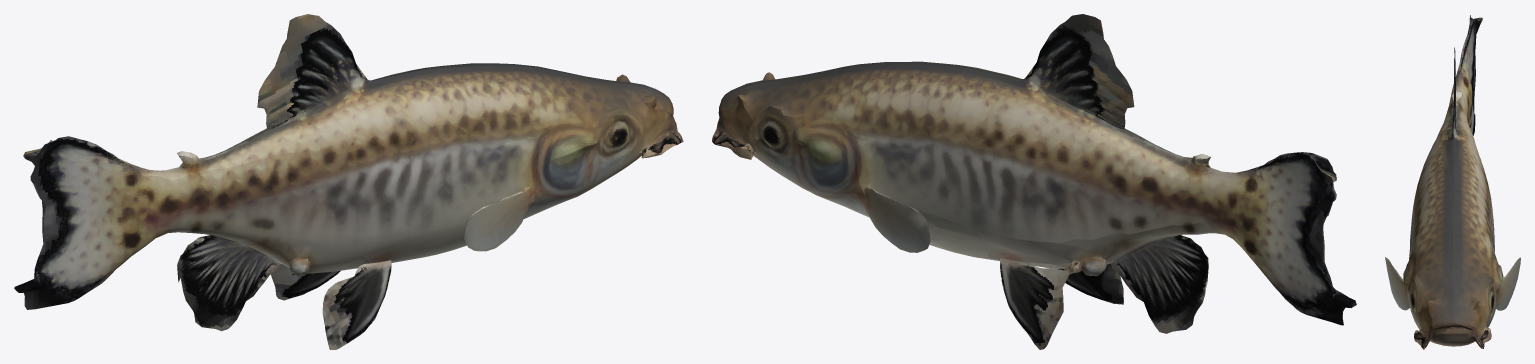
File: peppered-cory.glb
3 renders of one model, left to right at view 1: azimuth 30°, elevation 25°; view 2: azimuth 150°, elevation 25°; view 3: azimuth 270°, elevation 25°, orthographic. The views are drawn at different scales.
Parts seen in each view (by area): view 1: geometry_0; view 2: geometry_0; view 3: geometry_0.
Part boxes in pixels (x1,y1,x2,y2): geometry_0: (14,14,683,349); geometry_0: (712,14,1356,349); geometry_0: (1385,15,1520,349).
Bounding box in the file's own units: 1 × 0.4679 × 0.2311.
Materials: 1 (1 with a texture image).
